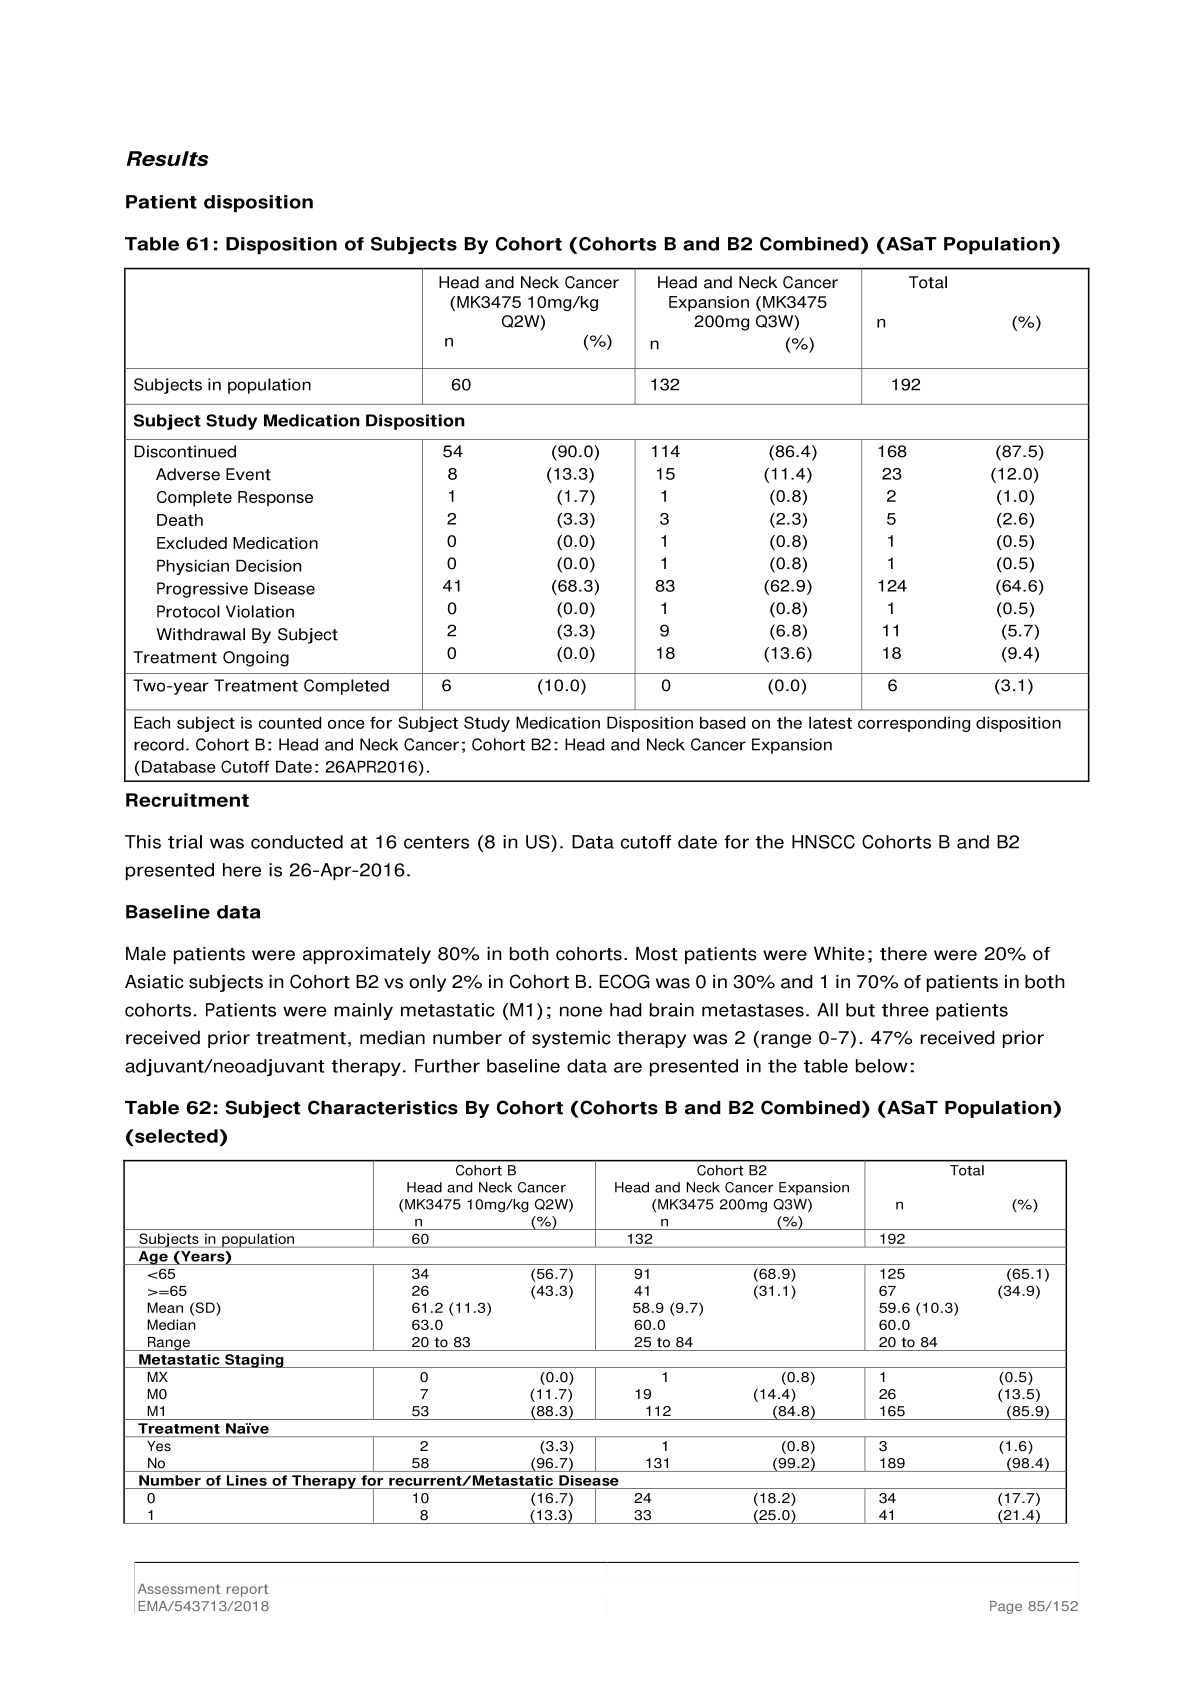merged_cells: (124, 267, 1090, 783), (122, 1159, 1068, 1524)
